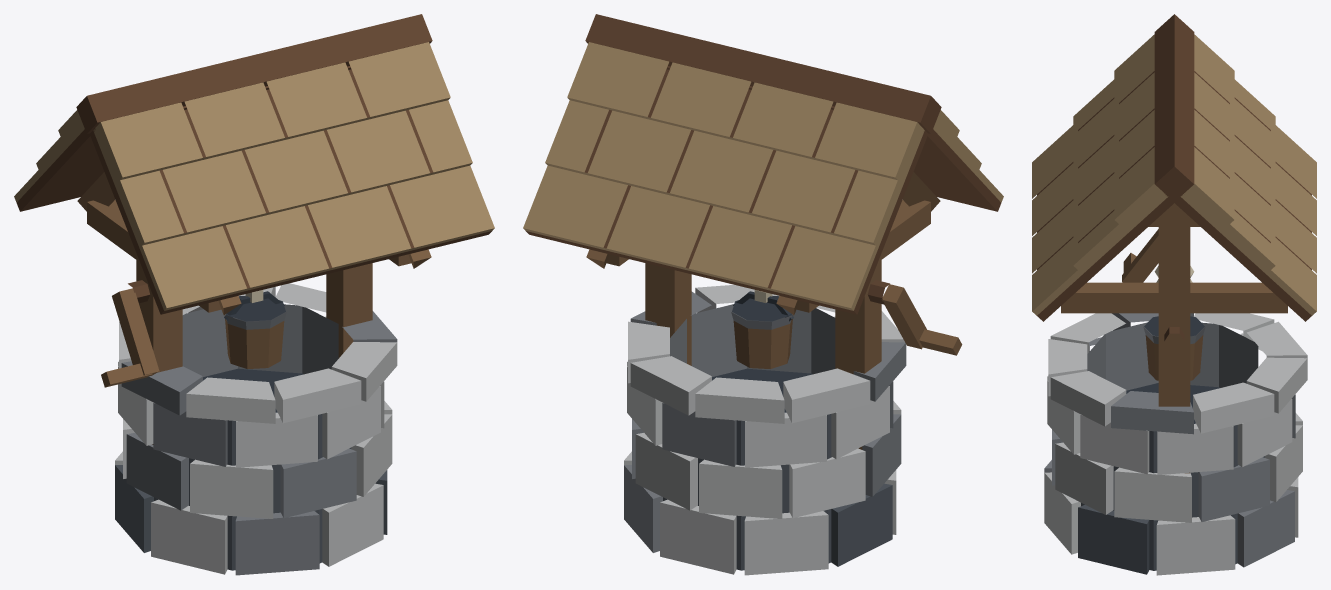
Rendered from village-well.glb.
3 views of the same model, side by side, from view 1: azimuth 30°, elevation 25°; view 2: azimuth 150°, elevation 25°; view 3: azimuth 270°, elevation 25° (orthographic). The views are drawn at different scales.
Parts seen in each view (by area): view 1: well-body, bucket-mesh, crank-mesh; view 2: well-body, bucket-mesh, crank-mesh; view 3: well-body, bucket-mesh, crank-mesh.
Part boxes in pixels (left/top/right/bottom): well-body: left=14, top=14, right=494, bottom=575; bucket-mesh: left=224, top=291, right=286, bottom=368; crank-mesh: left=101, top=280, right=159, bottom=387; well-body: left=523, top=14, right=1003, bottom=575; bucket-mesh: left=731, top=291, right=793, bottom=368; crank-mesh: left=867, top=280, right=962, bottom=355; well-body: left=1032, top=14, right=1316, bottom=575; bucket-mesh: left=1143, top=316, right=1205, bottom=380; crank-mesh: left=1122, top=229, right=1194, bottom=340.
Size of the model in its own units: 1.96 by 2.56 by 1.53.
